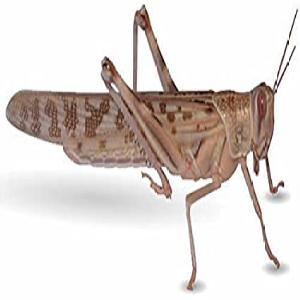locust: (8, 37, 295, 194)
